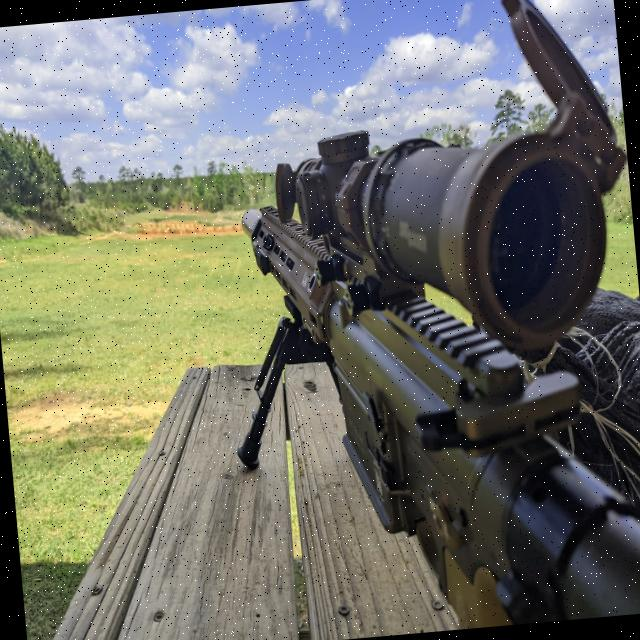Sniper: (201, 33, 640, 640)
